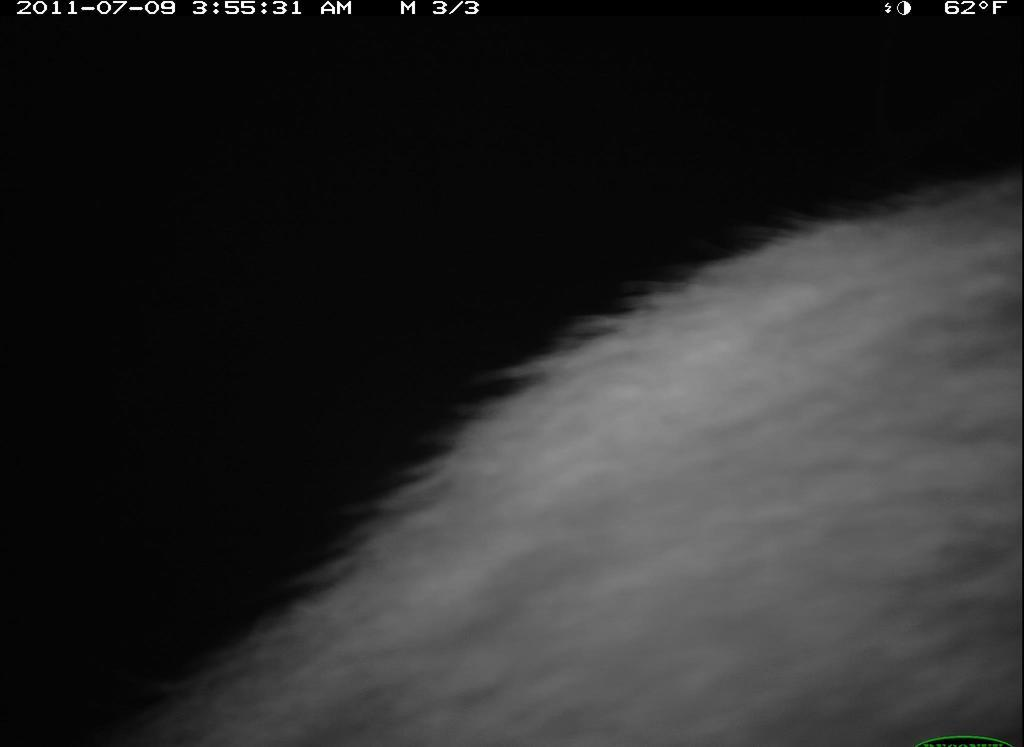raccoon: (109, 167, 1024, 747)
